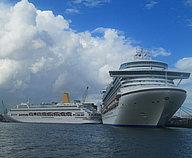Ship: (97, 47, 192, 129), (6, 93, 103, 127)
